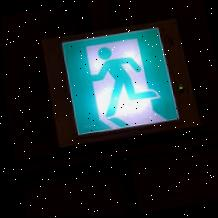emergency_exit: (60, 25, 182, 138)
